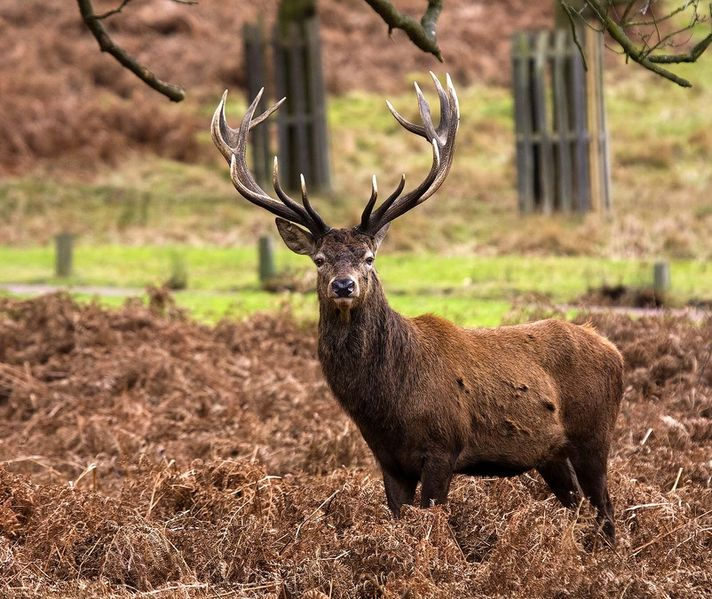Deer: (197, 73, 626, 550)
